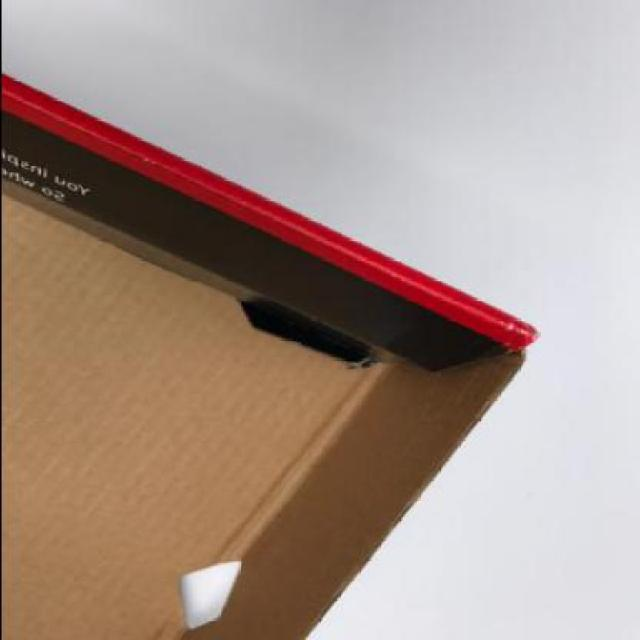CARDBOARD: (0, 76, 540, 638)
